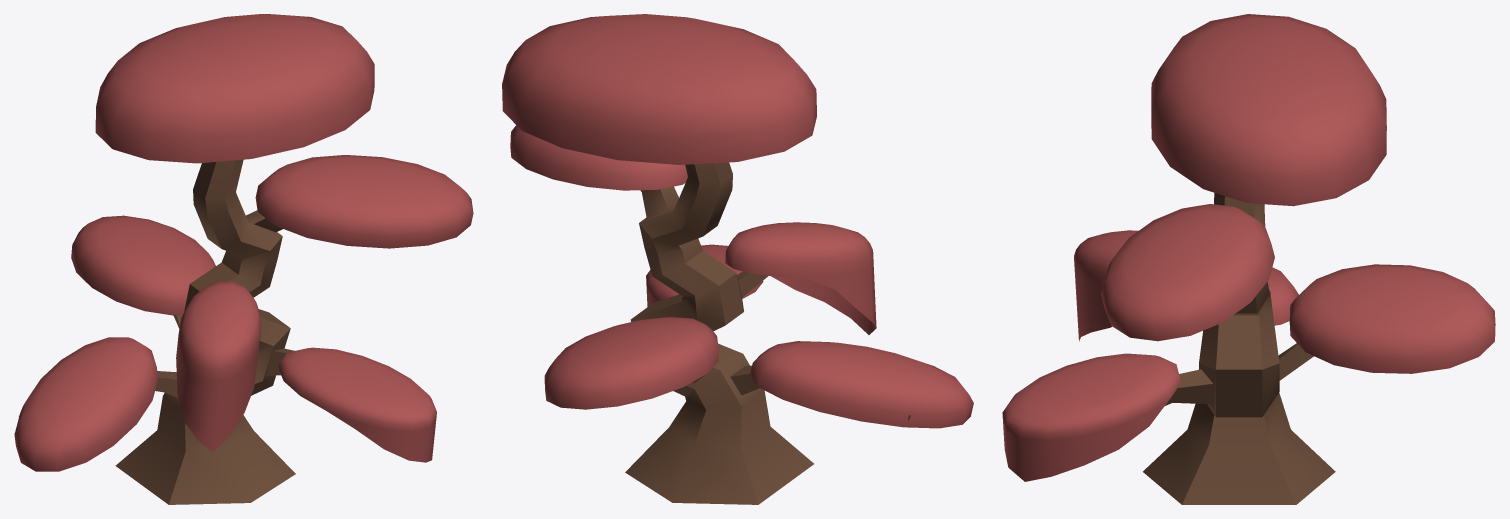
File: M_tree_03.fbx
The picture shows the model from 3 angles, left to right: view 1: azimuth 30°, elevation 25°; view 2: azimuth 150°, elevation 25°; view 3: azimuth 270°, elevation 25°; orthographic projection. The views are drawn at different scales.
Parts seen in each view (by area): view 1: M_lief_sakura00.010, M_tree_03, M_lief_sakura00.009, M_lief_sakura00.007, M_lief_sakura00.008, M_lief_sakura00.005, M_lief_sakura00.011; view 2: M_lief_sakura00.010, M_tree_03, M_lief_sakura00.007, M_lief_sakura00.011, M_lief_sakura00.008, M_lief_sakura00.009, M_lief_sakura00.005; view 3: M_lief_sakura00.010, M_tree_03, M_lief_sakura00.011, M_lief_sakura00.009, M_lief_sakura00.005, M_lief_sakura00.008, M_lief_sakura00.007.
Boxes of the visible parts, x1,y1,x2,y2 form: M_lief_sakura00.010: [95, 14, 374, 163]; M_tree_03: [18, 159, 295, 504]; M_lief_sakura00.009: [255, 155, 473, 248]; M_lief_sakura00.007: [14, 337, 158, 471]; M_lief_sakura00.008: [176, 281, 261, 452]; M_lief_sakura00.005: [278, 347, 436, 462]; M_lief_sakura00.011: [71, 215, 215, 315]; M_lief_sakura00.010: [502, 14, 816, 164]; M_tree_03: [625, 162, 910, 504]; M_lief_sakura00.007: [749, 341, 973, 428]; M_lief_sakura00.011: [544, 317, 718, 409]; M_lief_sakura00.008: [725, 222, 876, 334]; M_lief_sakura00.009: [510, 125, 687, 190]; M_lief_sakura00.005: [646, 244, 763, 306]; M_lief_sakura00.010: [1151, 14, 1386, 206]; M_tree_03: [1143, 193, 1335, 504]; M_lief_sakura00.011: [1289, 264, 1495, 373]; M_lief_sakura00.009: [1101, 204, 1274, 341]; M_lief_sakura00.005: [1002, 353, 1180, 481]; M_lief_sakura00.008: [1074, 230, 1138, 341]; M_lief_sakura00.007: [1267, 267, 1298, 325].
Bounding box in the file's own units: 1210 × 1084 × 1105.
